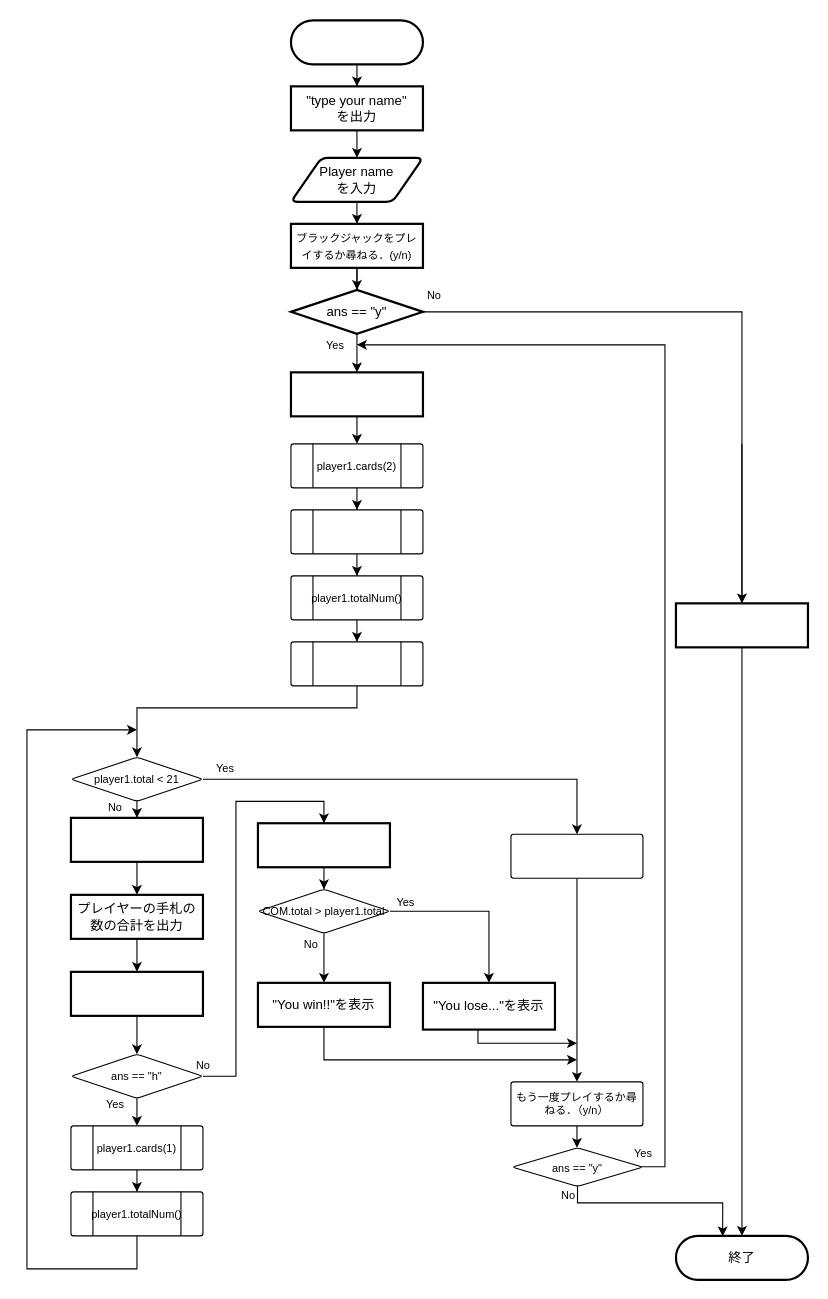
Image size: 828x1299. Some labels were removed from this diagram. Each missing label, with the centre of its shape:
"See you later!" を出力: point (741, 625)
"Your hand is over 21..." を出力: point (576, 855)
COM.cards(2): point (356, 531)
COM.totalNum(): point (356, 663)
COMの手札と合計を出力．: point (323, 845)
HitするかStandするか尋ねる(h/s): point (136, 993)
player1.hand，COM.handを初期化: point (356, 394)
プレイヤーの手札を出力: point (136, 839)
開始: point (356, 42)
